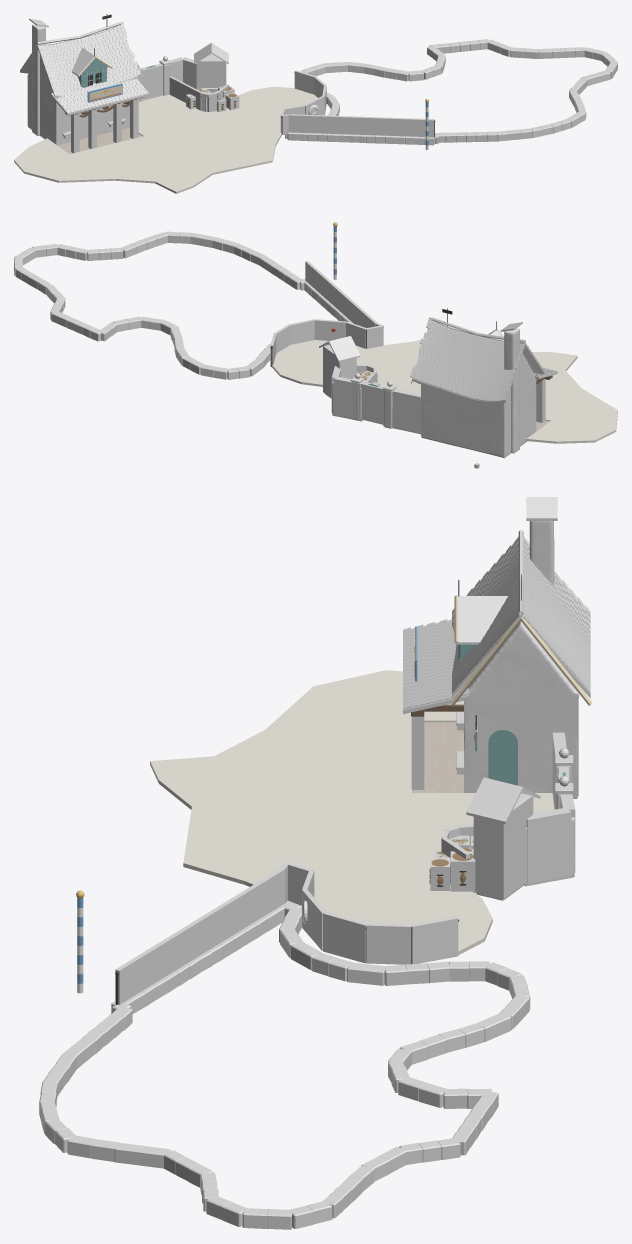
File: PK_decor.fbx
3 views of the same model, one above another, from view 1: azimuth 30°, elevation 25°; view 2: azimuth 150°, elevation 25°; view 3: azimuth 270°, elevation 25° (orthographic). The views are drawn at different scales.
Visible parts, largest first — view 1: static__MAT_grind_0, static__TEX_natuursteen_0, static__TEX_pannen_0, COLL_30, COLL_0, static__TEX_pannen_1, static__TEX_stuc_1, static__TEX_stuc_0, COLL_10, static__TEX_hout_0, COLL_9, static__MAT_flagstone_0 (+12 smaller); view 2: static__MAT_grind_0, static__TEX_natuursteen_0, static__TEX_pannen_1, COLL_0, static__TEX_stuc_0, static__TEX_stuc_1, COLL_30, COLL_5, static__TEX_pannen_0, COLL_9, static__TEX_hout_0, COLL_10 (+7 smaller); view 3: static__MAT_grind_0, static__TEX_natuursteen_0, static__TEX_pannen_1, static__TEX_pannen_0, static__TEX_stuc_1, COLL_30, static__TEX_stuc_0, COLL_10, COLL_0, COLL_8, static__MAT_flagstone_0, COLL_23 (+6 smaller).
Boxes of the visible parts, x1,y1,x2,y2 form: static__MAT_grind_0: (14, 86, 317, 193); static__TEX_natuursteen_0: (69, 39, 617, 152); static__TEX_pannen_0: (20, 22, 148, 113); COLL_30: (288, 114, 434, 137); COLL_0: (27, 75, 129, 145); static__TEX_pannen_1: (22, 18, 228, 76); static__TEX_stuc_1: (32, 24, 143, 135); static__TEX_stuc_0: (28, 55, 129, 144); COLL_10: (196, 54, 226, 92); static__TEX_hout_0: (20, 25, 149, 138); COLL_9: (142, 63, 170, 100); static__MAT_flagstone_0: (57, 127, 142, 154); static__MAT_grind_0: (272, 340, 617, 443); static__TEX_natuursteen_0: (14, 231, 547, 427); static__TEX_pannen_1: (319, 317, 525, 394); COLL_0: (421, 378, 536, 456); static__TEX_stuc_0: (422, 353, 536, 458); static__TEX_stuc_1: (392, 328, 519, 453); COLL_30: (305, 261, 377, 327); COLL_5: (393, 388, 420, 432); static__TEX_pannen_0: (410, 317, 557, 401); COLL_9: (360, 381, 392, 426); static__TEX_hout_0: (412, 324, 557, 403); COLL_10: (323, 345, 356, 397); static__MAT_grind_0: (150, 670, 554, 955); static__TEX_natuursteen_0: (39, 722, 573, 1229); static__TEX_pannen_1: (455, 497, 586, 824); static__TEX_pannen_0: (403, 537, 590, 709); static__TEX_stuc_1: (463, 521, 579, 798); COLL_30: (115, 868, 285, 1004); static__TEX_stuc_0: (464, 624, 579, 798); COLL_10: (473, 793, 533, 899); COLL_0: (464, 693, 578, 795); COLL_8: (526, 807, 571, 883); static__MAT_flagstone_0: (412, 722, 463, 793); COLL_23: (411, 916, 458, 963).
Bounding box in the file's own units: 37.05 × 9.15 × 15.86.
